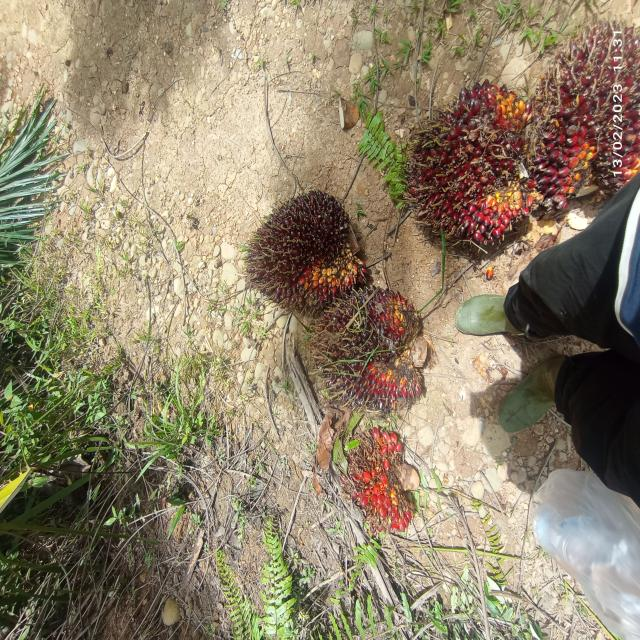fraksi 00: (225, 170, 372, 322), (302, 277, 438, 433)
fraksi 1: (401, 64, 551, 261), (528, 0, 640, 216)
fraksi 4: (336, 421, 436, 537)
